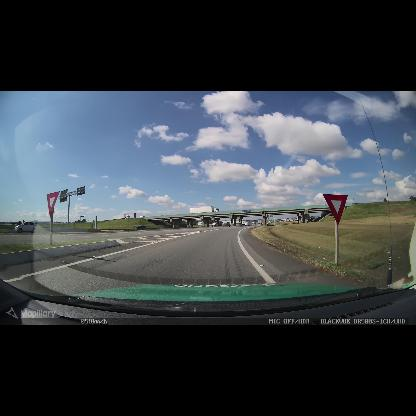R-2: (322, 194, 348, 226), (47, 191, 60, 219)
